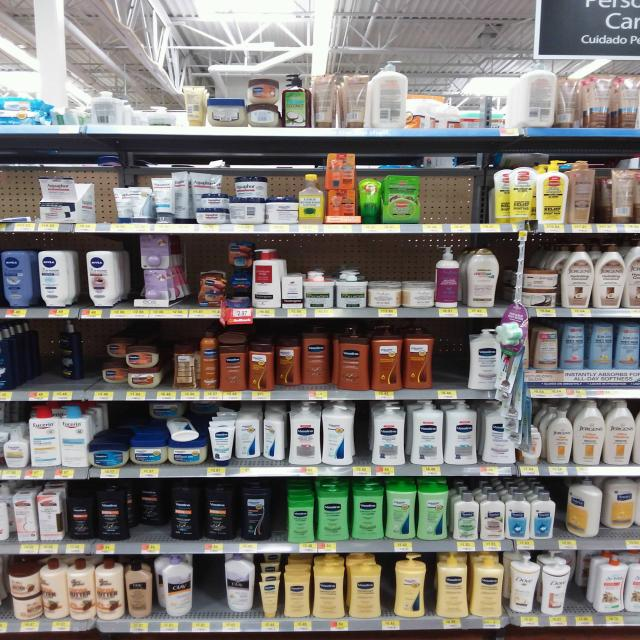void: (0, 166, 38, 221), (440, 324, 466, 387), (198, 554, 220, 616)
